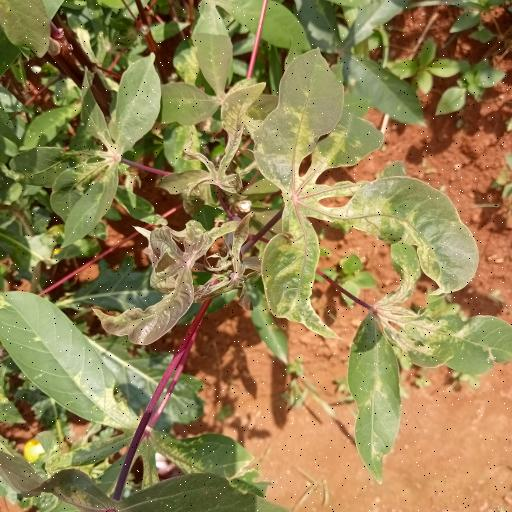Cassava_Healthy: (246, 49, 486, 330)
